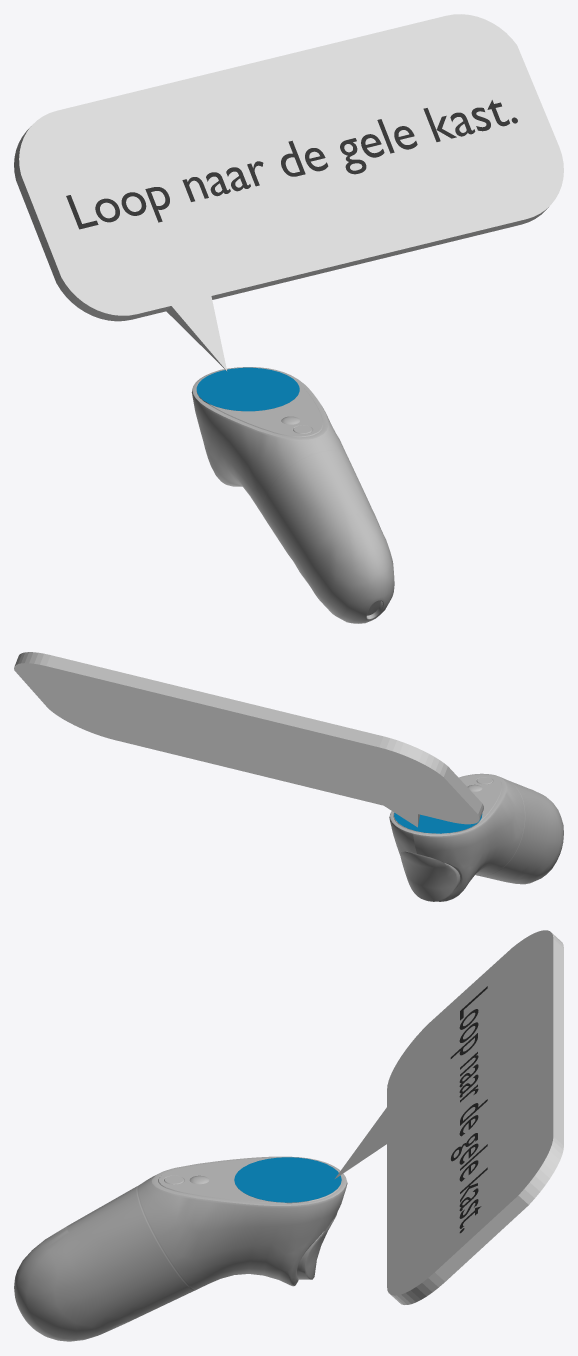
Rendered from REMOTE-tutorial-4-walk-to-closet.fbx.
3 views of the same model, one above another, from view 1: azimuth 30°, elevation 25°; view 2: azimuth 150°, elevation 25°; view 3: azimuth 270°, elevation 25° (orthographic). The views are drawn at different scales.
Visible parts, largest first — view 1: Curve, Circle, Text; view 2: Curve, Circle; view 3: Curve, Circle, Text.
Part boxes in pixels (x1,y1,x2,y2): Curve: (14, 14, 563, 371); Circle: (191, 367, 394, 623); Text: (66, 100, 517, 229); Curve: (14, 652, 483, 827); Circle: (389, 773, 563, 901); Curve: (335, 930, 563, 1304); Circle: (14, 1156, 347, 1341); Text: (450, 986, 487, 1233).
Bounding box in the file's own units: 426 × 288 × 390.
